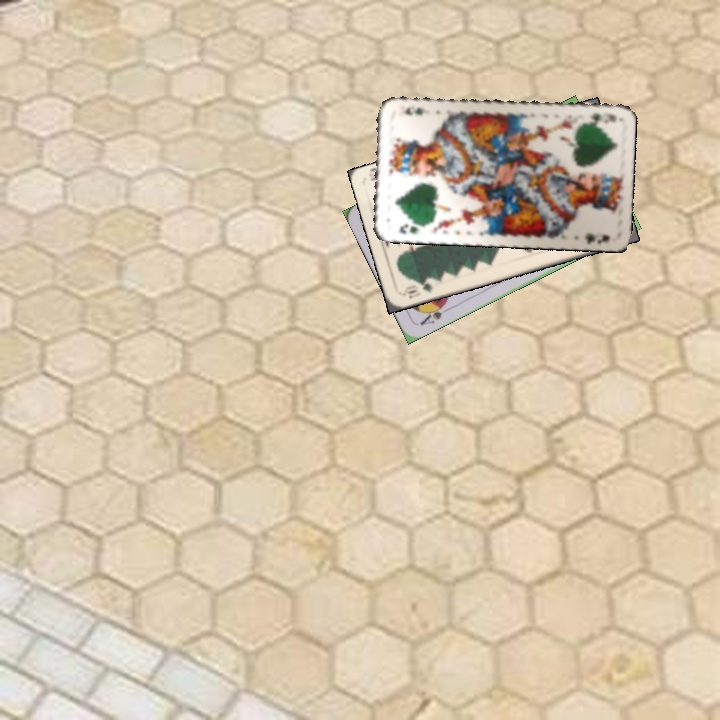G10: (399, 277, 435, 298)
GK: (579, 108, 619, 126), (394, 219, 427, 237)
SA: (416, 298, 453, 328)
